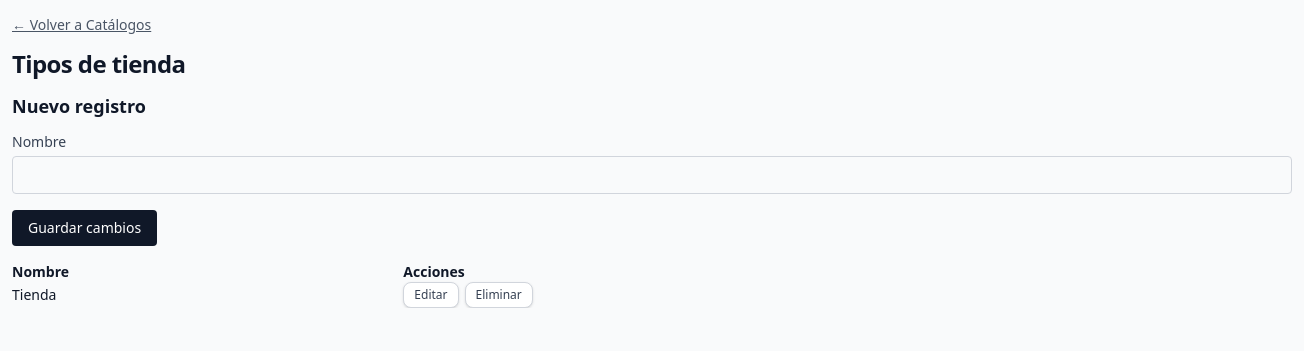
CatalogCrudPage · store_types (ADM-9.1 CRUD + ADM-9.5 cero-request) › ADM-9.1: crear ⇒ createCatalogRow con el payload de toDbRow y refetch que muestra la fila nueva
This screenshot has width=1304, height=351.
Check: the text "Tienda" is shown, box [12,282,403,308]
Type "Kiosco" into the field labelled "Nombre" at (652, 175), box [12,156,1292,194]
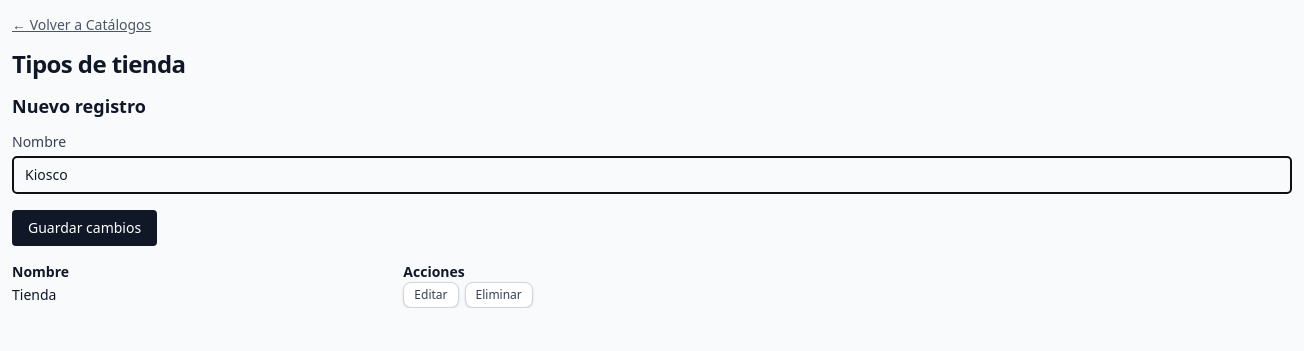
Click the button "Guardar cambios" at (85, 228), box [12,210,157,246]
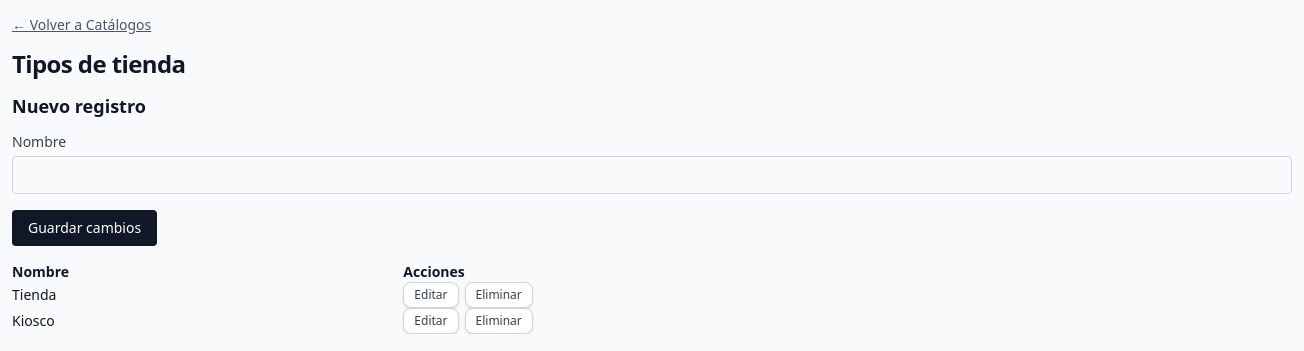
Check: the text "Kiosco" is shown, box [12,308,403,334]
